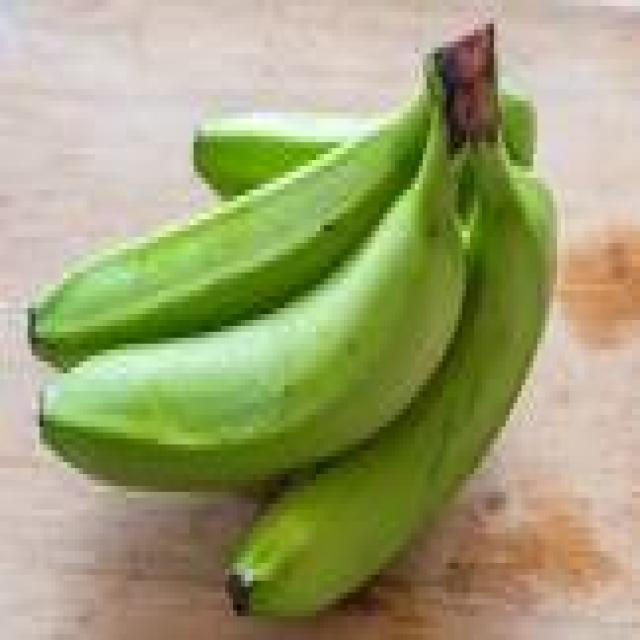banana: (40, 113, 466, 491), (230, 143, 557, 616), (28, 95, 426, 367), (194, 113, 379, 195), (194, 113, 375, 195)
